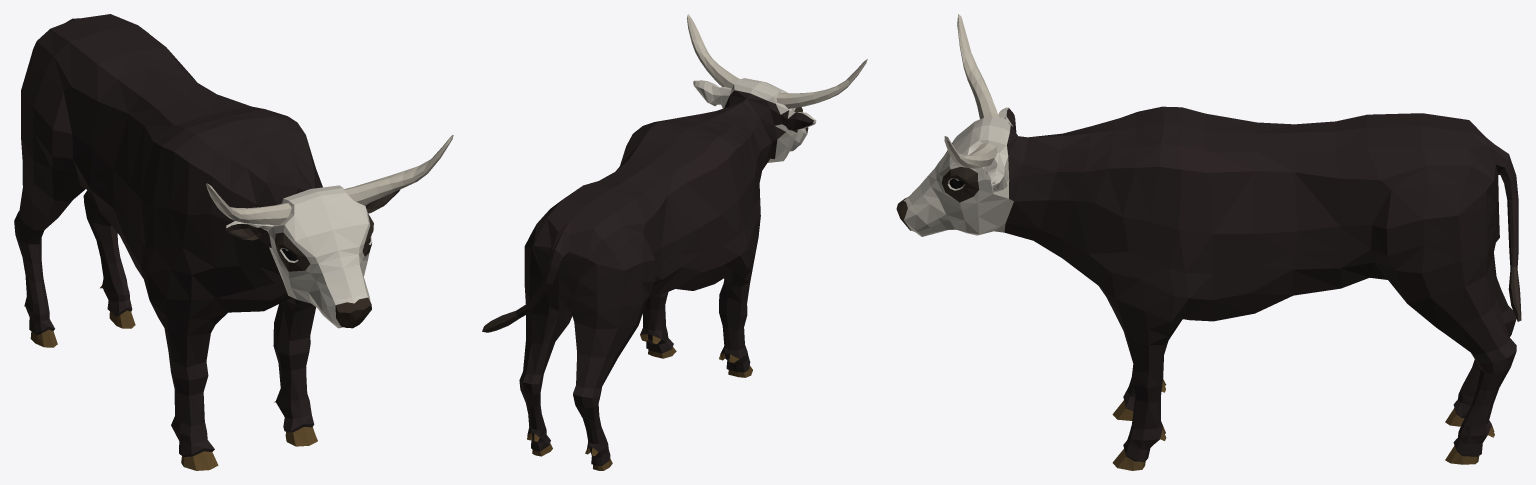
File: yak.glb
The picture shows the model from 3 angles, left to right: view 1: azimuth 30°, elevation 25°; view 2: azimuth 150°, elevation 25°; view 3: azimuth 270°, elevation 25°; orthographic projection. The views are drawn at different scales.
Parts seen in each view (by area): view 1: zoo-yak; view 2: zoo-yak; view 3: zoo-yak.
Boxes of the visible parts, left/top/right/bottom form: zoo-yak: left=14, top=14, right=453, bottom=470; zoo-yak: left=482, top=14, right=867, bottom=470; zoo-yak: left=896, top=14, right=1521, bottom=470.
Size of the model in its own units: 1.14 by 1.66 by 2.58.
